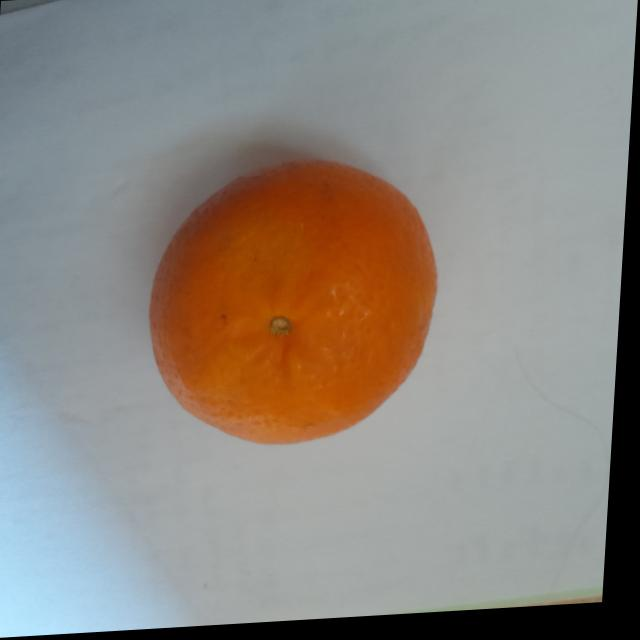Cam: (142, 153, 450, 476)
